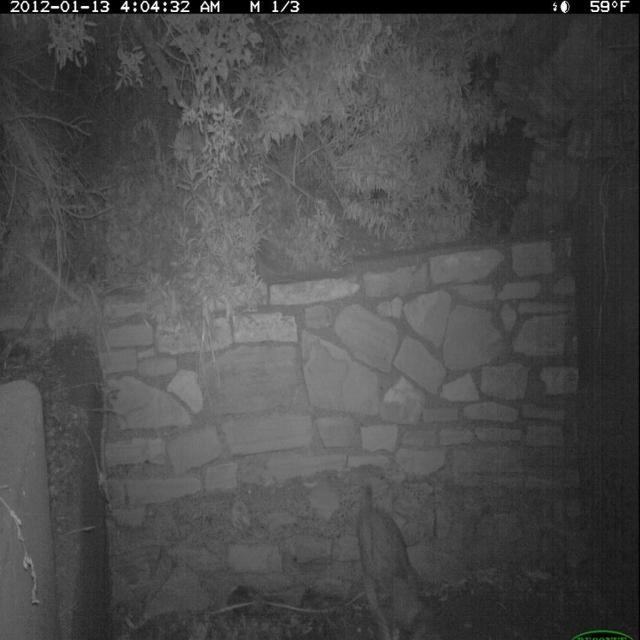bobcat: (353, 479, 441, 640)
